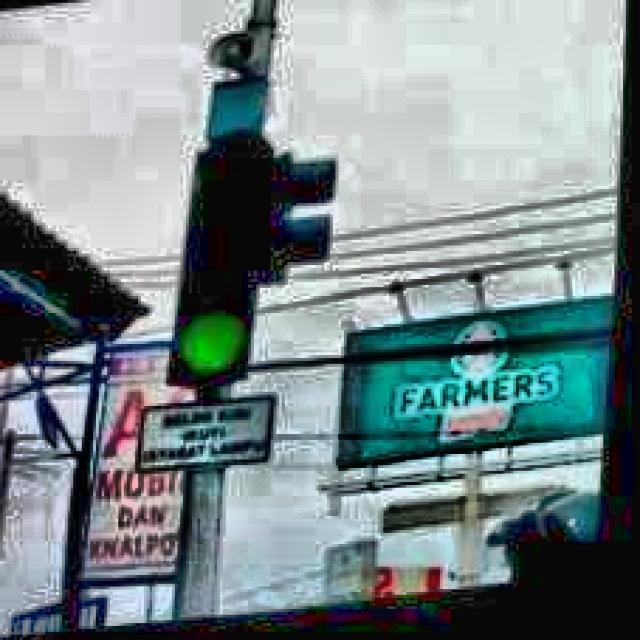green: (165, 137, 286, 393)
